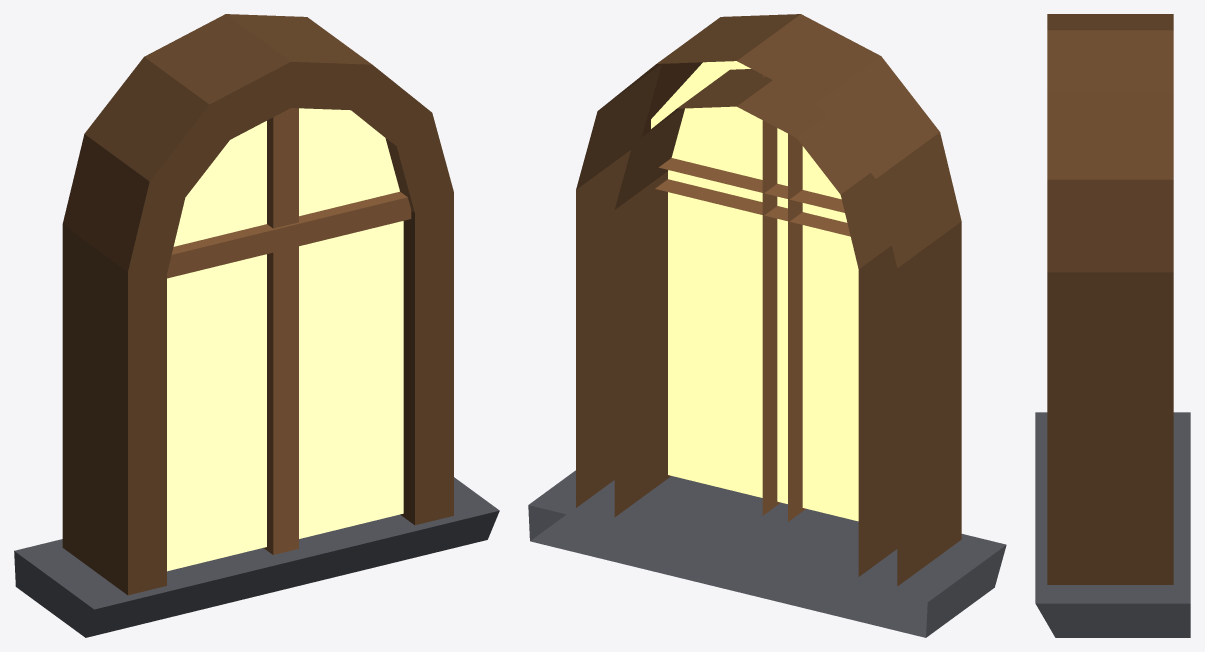
Rendered from Window_3.glb.
3 renders of one model, left to right at view 1: azimuth 30°, elevation 25°; view 2: azimuth 150°, elevation 25°; view 3: azimuth 270°, elevation 25°, orthographic. The views are drawn at different scales.
Parts seen in each view (by area): view 1: Window_3; view 2: Window_3; view 3: Window_3.
Part boxes in pixels (x1,y1,x2,y2): Window_3: [14, 14, 499, 637]; Window_3: [528, 14, 1006, 637]; Window_3: [1035, 14, 1190, 637].
Size of the model in its own units: 0.447 by 0.5585 by 0.1532.
